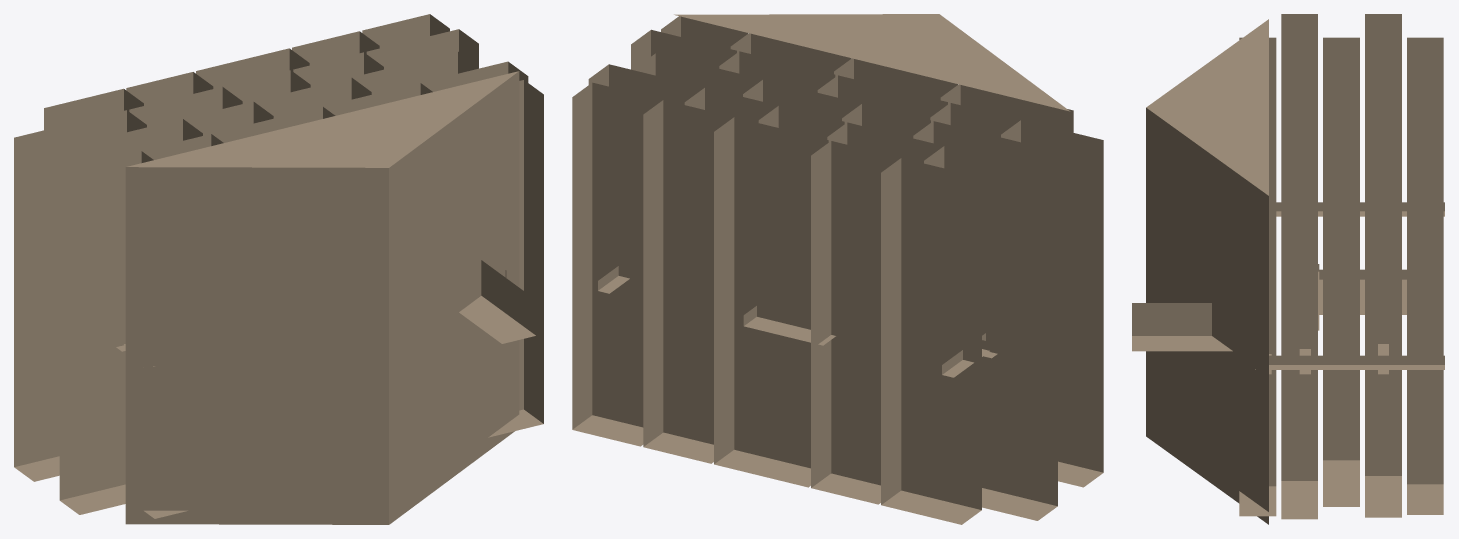
Rendered from town_house_A.glb.
3 renders of one model, left to right at view 1: azimuth 30°, elevation 25°; view 2: azimuth 150°, elevation 25°; view 3: azimuth 270°, elevation 25°, orthographic. The views are drawn at different scales.
Parts seen in each view (by area): view 1: world; view 2: world; view 3: world.
Part boxes in pixels (left/top/right/bottom): world: left=14, top=14, right=543, bottom=524; world: left=572, top=14, right=1103, bottom=524; world: left=1132, top=14, right=1444, bottom=524.
Bounding box in the file's own units: 8.55 × 6.5 × 5.6.
